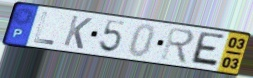0: (126, 23, 158, 59)
5: (97, 19, 128, 55)
E: (187, 30, 227, 69)
K: (61, 14, 94, 51)
L: (32, 10, 56, 46)
R: (159, 26, 196, 66)
